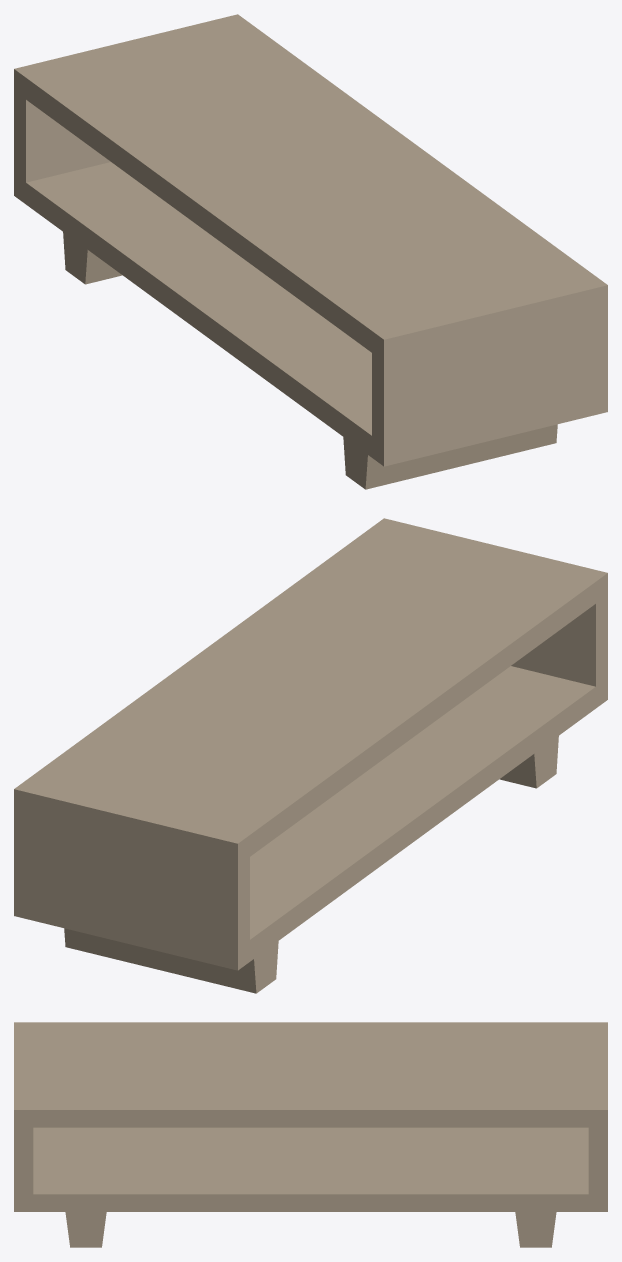
File: TvBench.fbx
The picture shows the model from 3 angles, top to bottom: view 1: azimuth 30°, elevation 25°; view 2: azimuth 150°, elevation 25°; view 3: azimuth 270°, elevation 25°; orthographic projection. The views are drawn at different scales.
Parts seen in each view (by area): view 1: Cube; view 2: Cube; view 3: Cube.
Boxes of the visible parts, left/top/right/bottom form: Cube: left=14, top=14, right=607, bottom=489; Cube: left=14, top=518, right=607, bottom=993; Cube: left=14, top=1022, right=607, bottom=1247.
Bounding box in the file's own units: 1144 × 400 × 306.
